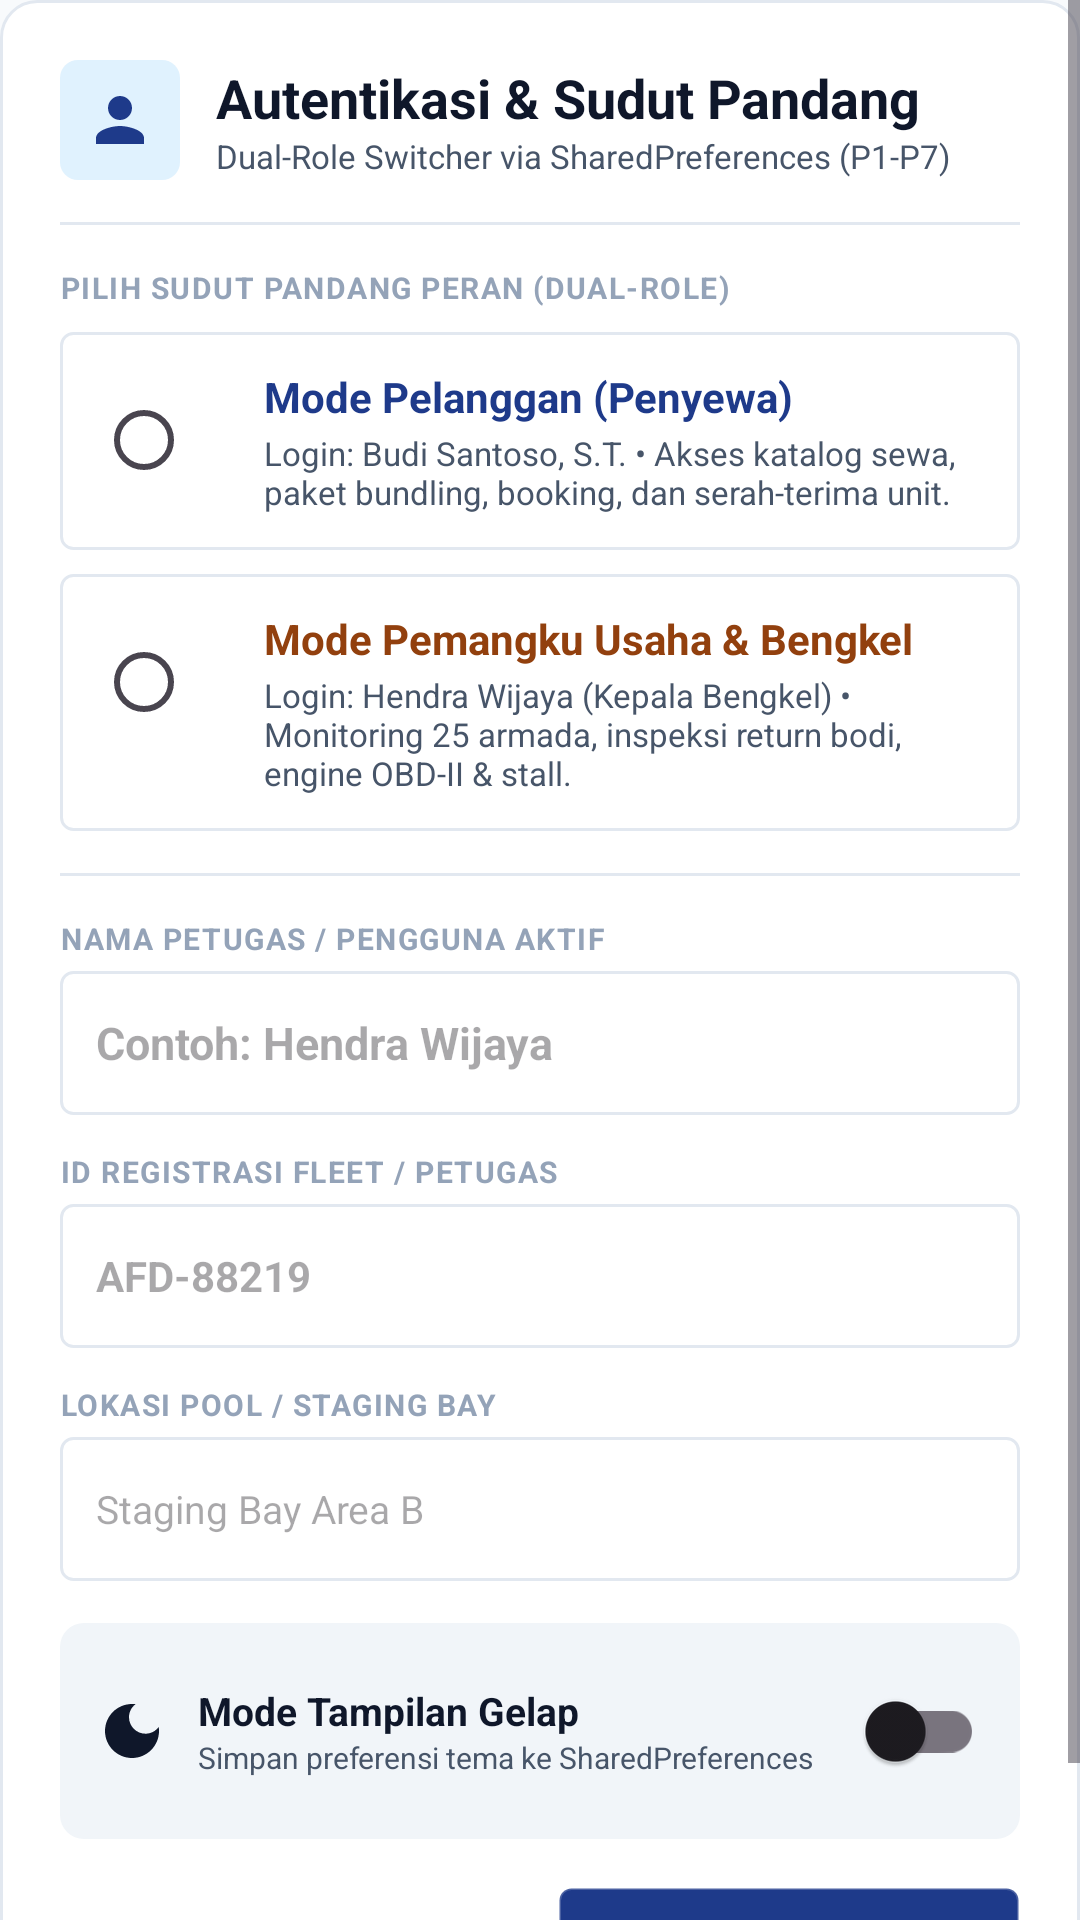

Icon bounding boxes for this 1080 x 1920 phone screenshot, format (x1, y1, x2, y2):
person: (60, 60, 180, 180)
